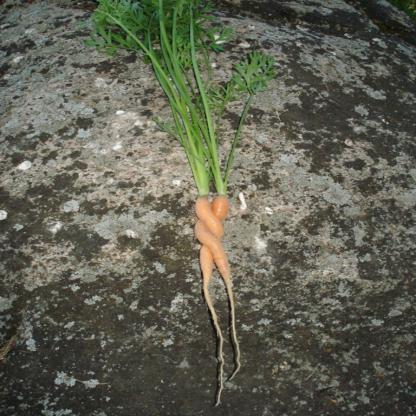Carrot: (184, 175, 255, 404)
